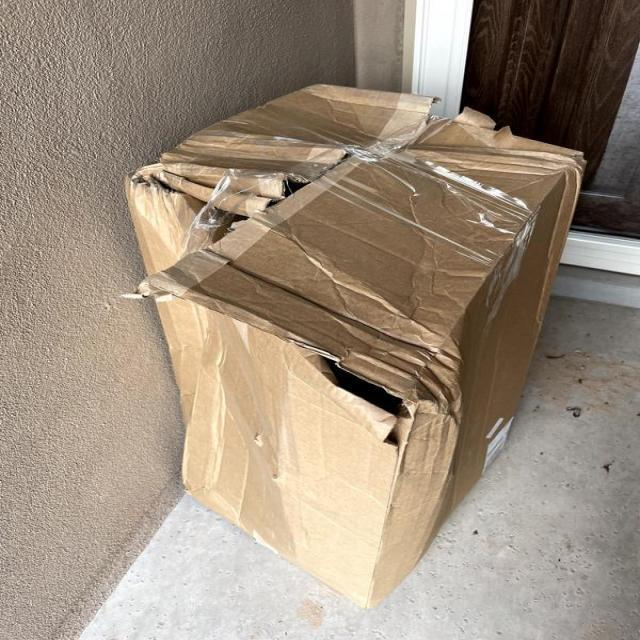hole: (321, 362, 420, 459)
